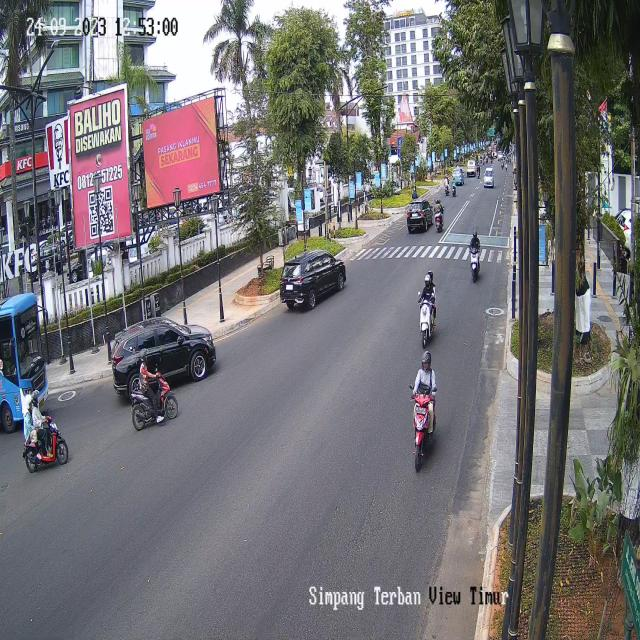bus: (2, 293, 52, 432)
car: (112, 314, 220, 394), (278, 250, 348, 312), (406, 197, 434, 234)
motorcycle: (22, 384, 68, 476), (130, 350, 178, 428), (411, 345, 440, 468), (420, 266, 438, 352), (470, 228, 482, 288), (434, 193, 444, 235)
